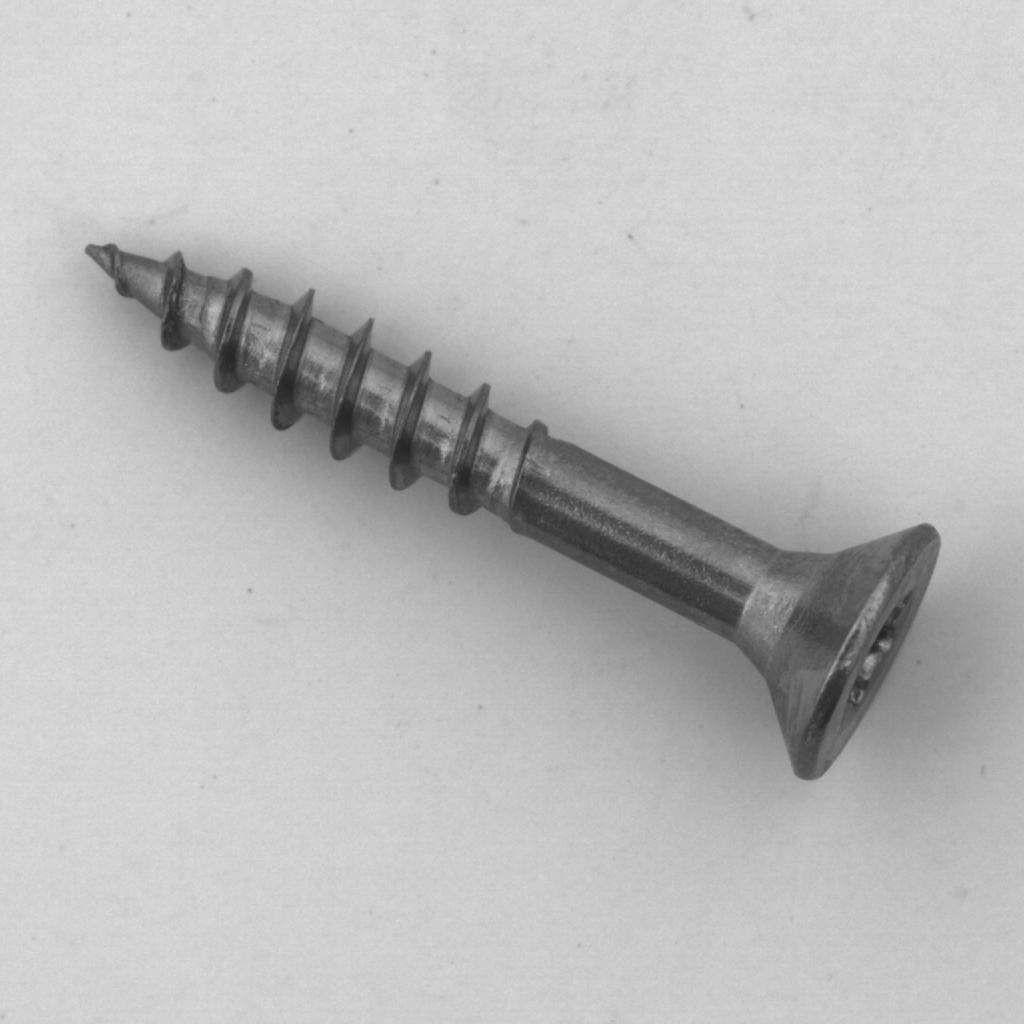good: (62, 222, 954, 798)
